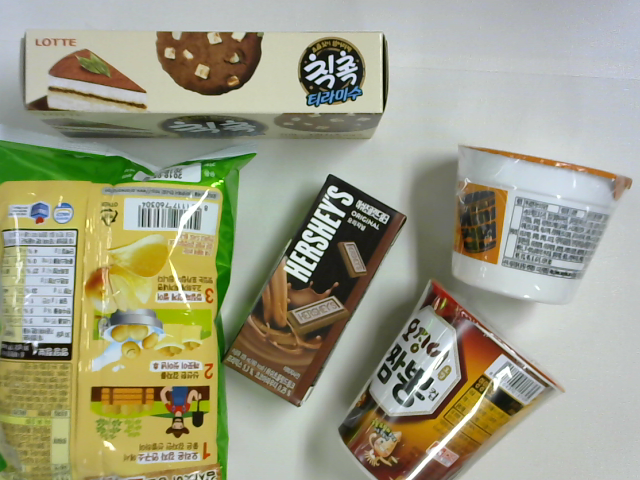Chicchok_Tiramisu: (18, 12, 404, 140)
Hush_Choco_Drink: (232, 169, 407, 407)
Ojjam: (334, 286, 557, 480)
Pocachip_Onion: (1, 132, 265, 478)
Udongmini: (434, 137, 623, 304)
